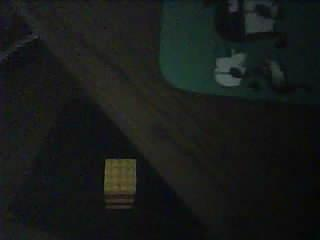lego: (104, 157, 137, 211)
